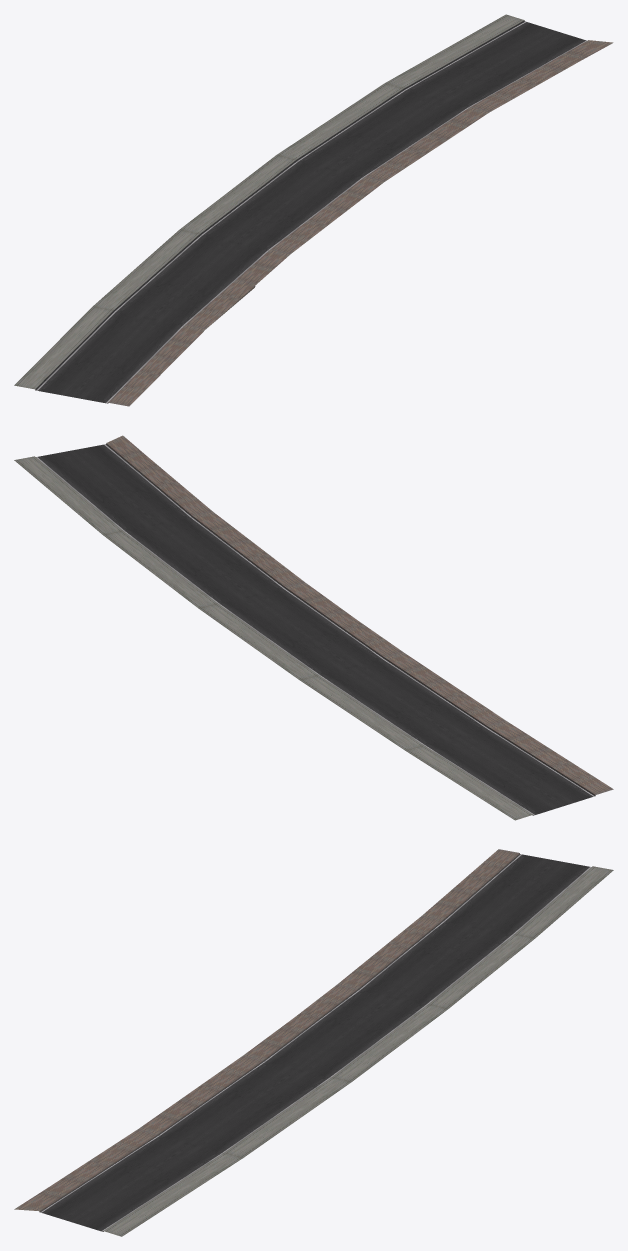
File: roads39_ce.obj
3 renders of one model, top to bottom at view 1: azimuth 90°, elevation 25°; view 2: azimuth 150°, elevation 25°; view 3: azimuth 270°, elevation 25°, orthographic.
Visible parts, largest first — view 1: Roads39_CE; view 2: Roads39_CE; view 3: Roads39_CE.
Boxes of the visible parts, box(x1,y1,x2,y2) form: Roads39_CE: box(14, 14, 613, 406); Roads39_CE: box(14, 435, 613, 820); Roads39_CE: box(14, 849, 613, 1236).
Size of the model in its own units: 140 by 1.71 by 90.82.
Materials: 3 (3 with a texture image).
